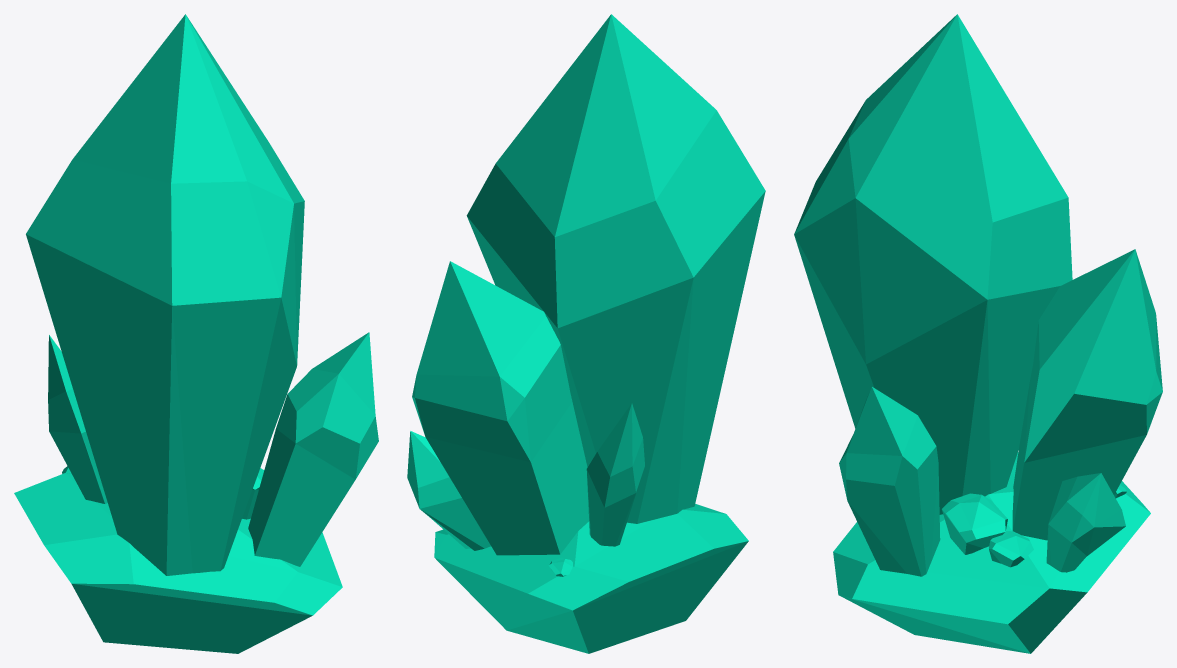
File: Heart_01.fbx
3 renders of one model, left to right at view 1: azimuth 30°, elevation 25°; view 2: azimuth 150°, elevation 25°; view 3: azimuth 270°, elevation 25°, orthographic. The views are drawn at different scales.
Parts seen in each view (by area): view 1: pCube13, Cris_Little_base1, Cris_Little_base, pCube14; view 2: pCube13, Cristal_Big_base, Cris_Little_base1, pCube14, pCube12; view 3: pCube13, Cristal_Big_base, Cris_Little_base1, Cris_Little_base, pCube12, Cris_Little_base3, Cris_Little_base2.
Boxes of the visible parts, x1=… form: pCube13: x1=26, y1=14, x2=304, y2=575; Cris_Little_base1: x1=14, y1=473, x2=342, y2=653; Cris_Little_base: x1=248, y1=332, x2=378, y2=566; pCube14: x1=48, y1=335, x2=107, y2=503; pCube13: x1=466, y1=14, x2=765, y2=523; Cristal_Big_base: x1=412, y1=261, x2=588, y2=555; Cris_Little_base1: x1=434, y1=504, x2=748, y2=653; pCube14: x1=586, y1=403, x2=644, y2=546; pCube12: x1=407, y1=431, x2=490, y2=550; pCube13: x1=794, y1=14, x2=1072, y2=514; Cristal_Big_base: x1=1012, y1=249, x2=1162, y2=540; Cris_Little_base1: x1=833, y1=452, x2=1150, y2=653; Cris_Little_base: x1=839, y1=387, x2=940, y2=576; pCube12: x1=1046, y1=473, x2=1125, y2=572; Cris_Little_base3: x1=942, y1=493, x2=1007, y2=554; Cris_Little_base2: x1=989, y1=531, x2=1033, y2=567.
Size of the model in its own units: 1.84 by 3.88 by 2.14.
